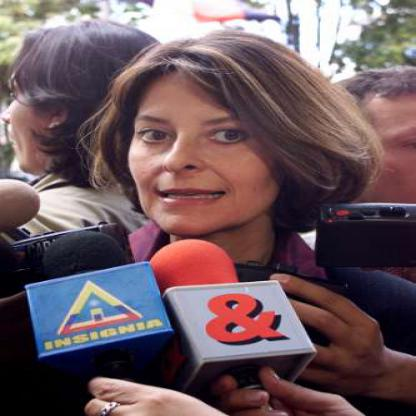face: (116, 41, 296, 242)
